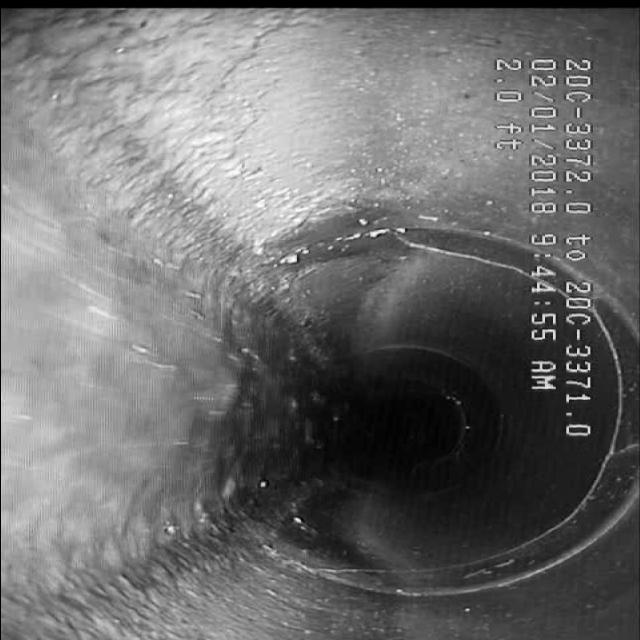Crack: (386, 228, 528, 288)
